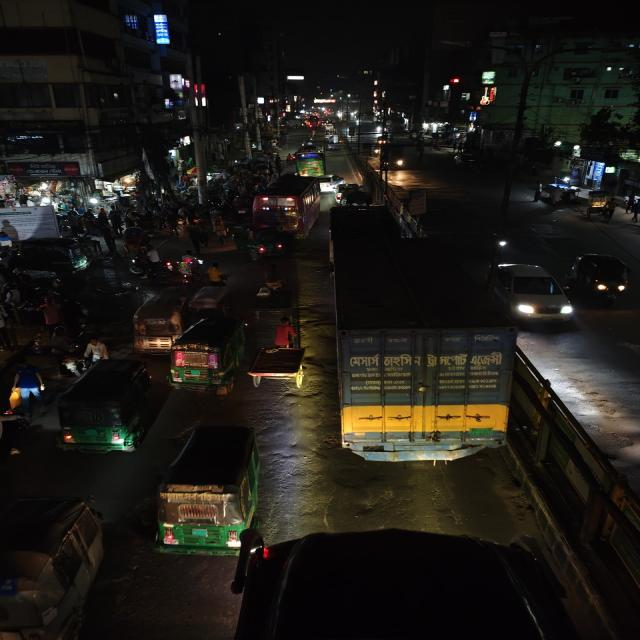bus: (251, 174, 322, 236), (292, 148, 328, 176)
car: (488, 260, 574, 326), (335, 182, 372, 209), (318, 176, 336, 194)
cng: (0, 492, 111, 640), (151, 423, 267, 557), (56, 357, 156, 457), (169, 314, 247, 398), (567, 250, 635, 302), (17, 236, 94, 276), (230, 223, 288, 261), (379, 149, 398, 171)
motorcycle: (132, 245, 172, 281), (177, 248, 205, 282), (489, 228, 514, 256)
pedestrian: (192, 226, 211, 250), (530, 182, 546, 205)
pickup_van: (246, 344, 308, 390)
rickshaw: (150, 423, 268, 557), (186, 265, 228, 314), (117, 226, 153, 256)
truck: (338, 241, 514, 469)
